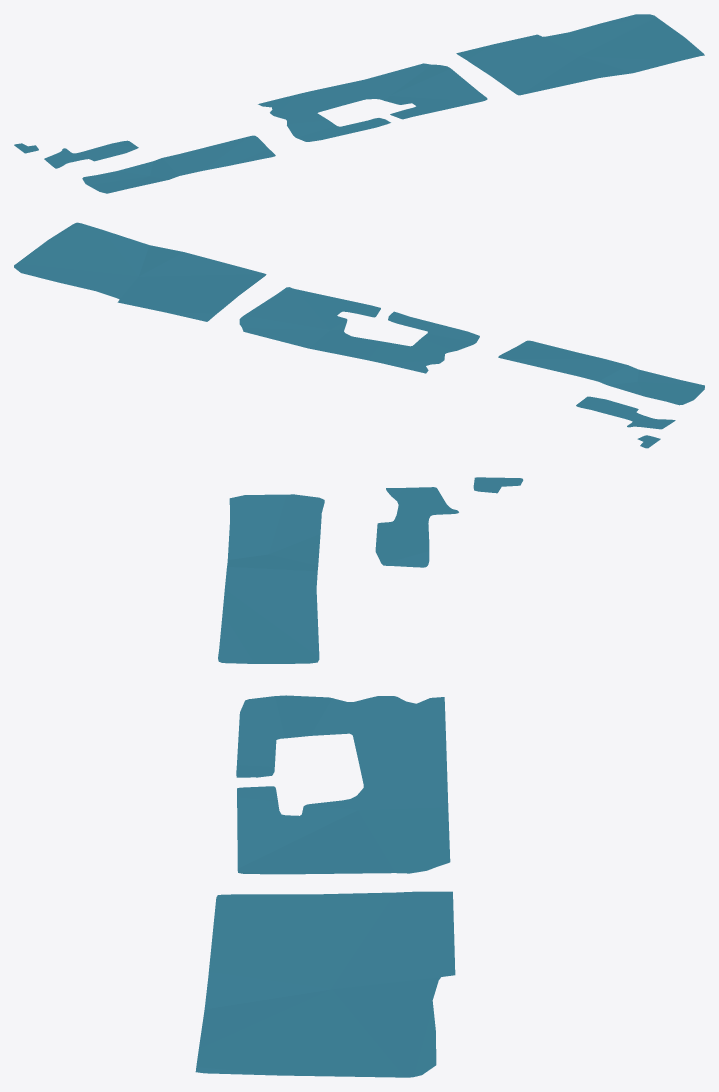
Rendered from site-ponds.glb.
The picture shows the model from 3 angles, top to bottom: view 1: azimuth 30°, elevation 25°; view 2: azimuth 150°, elevation 25°; view 3: azimuth 270°, elevation 25°; orthographic projection. The views are drawn at different scales.
Visible parts, largest first — view 1: site-ponds; view 2: site-ponds; view 3: site-ponds.
Part boxes in pixels (x1,y1,x2,y2): site-ponds: [14, 14, 704, 193]; site-ponds: [14, 222, 704, 448]; site-ponds: [195, 477, 523, 1077].
Bounding box in the file's own units: 302 × 1.61 × 69.78.
